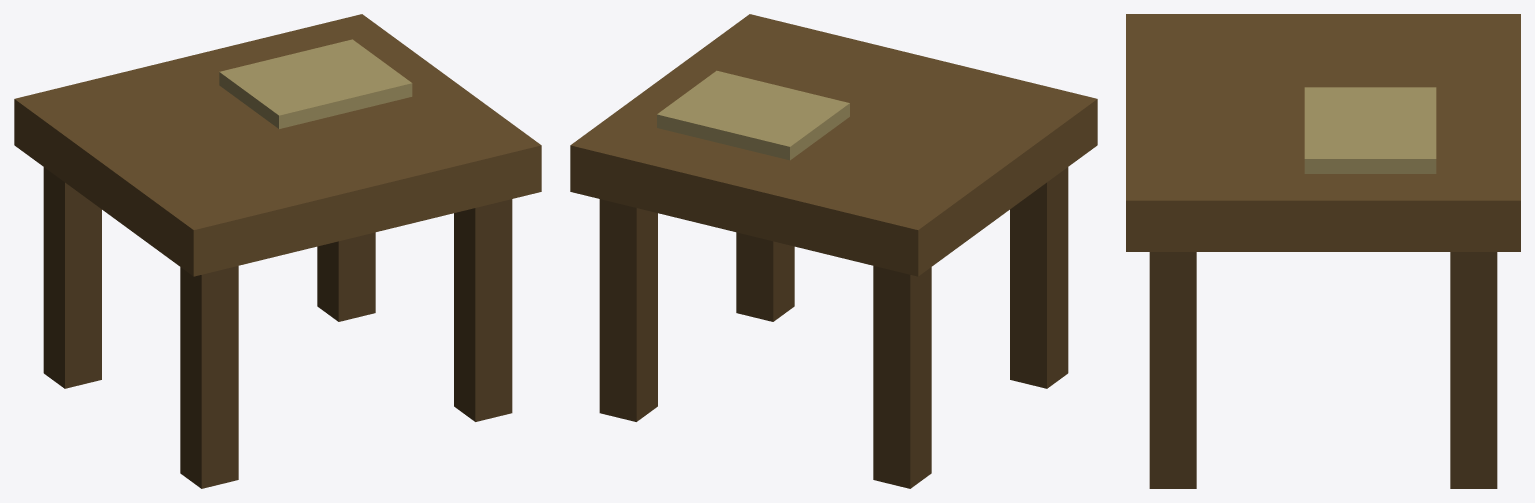
File: ledger_table.glb
The picture shows the model from 3 angles, left to right: view 1: azimuth 30°, elevation 25°; view 2: azimuth 150°, elevation 25°; view 3: azimuth 270°, elevation 25°; orthographic projection. The views are drawn at different scales.
Parts seen in each view (by area): view 1: ledger_table; view 2: ledger_table; view 3: ledger_table.
Boxes of the visible parts, bbox=[...] form: ledger_table: bbox=[14, 14, 541, 488]; ledger_table: bbox=[570, 14, 1097, 488]; ledger_table: bbox=[1126, 14, 1520, 488].
Bounding box in the file's own units: 0.94 × 0.7375 × 0.84.
